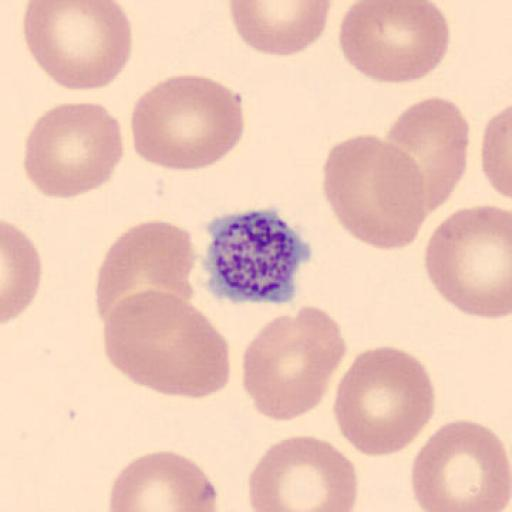Platelet: (200, 206, 314, 306)
RBC: (102, 286, 232, 400), (320, 132, 427, 252), (241, 306, 348, 422), (332, 345, 437, 458), (94, 220, 198, 334), (129, 72, 246, 172), (422, 202, 512, 321), (21, 0, 133, 92), (23, 101, 125, 201), (337, 0, 452, 86), (385, 95, 470, 210), (409, 417, 512, 511), (246, 434, 360, 511), (107, 448, 221, 512), (228, 0, 332, 58), (2, 220, 42, 326), (480, 100, 512, 202)
